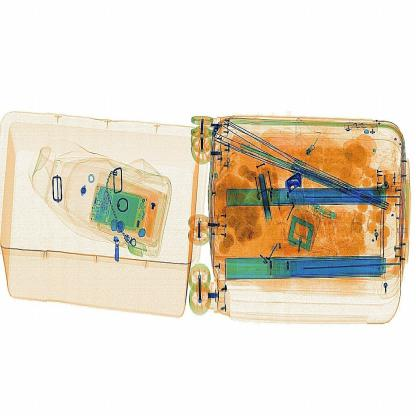knife: (278, 164, 310, 196)
